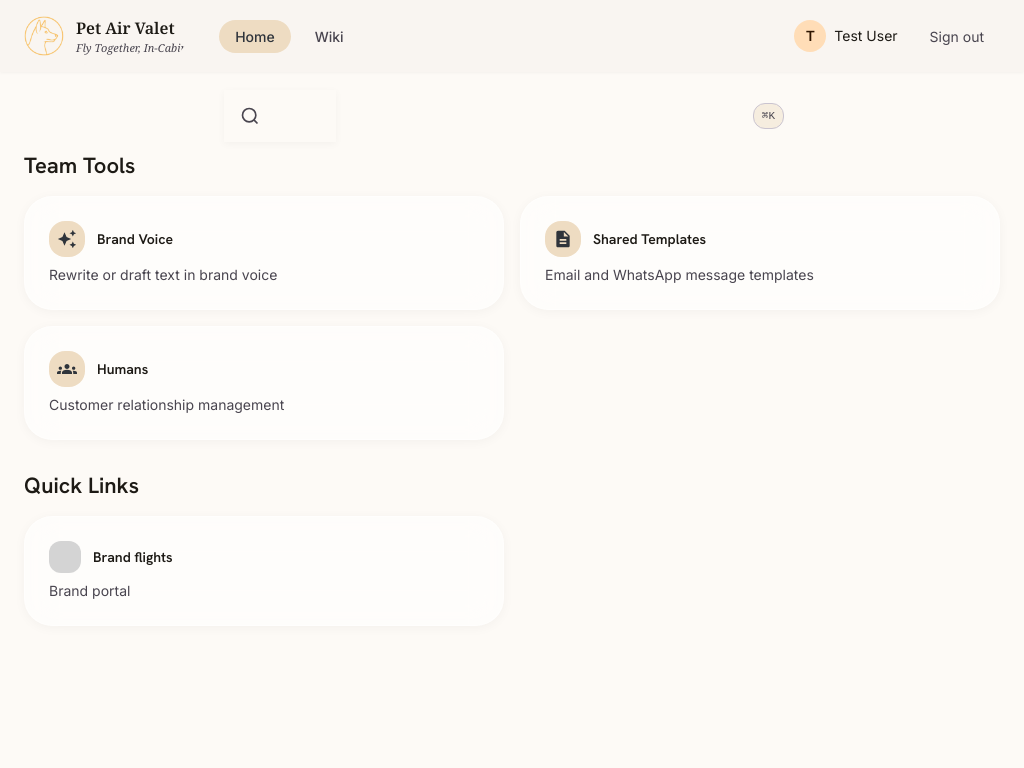
StartPage › uses quick-links heading when search matches both internal apps and links
Replace the text in the field labelled "⌘K" with "brand" at (768, 116), box [224,104,800,128]
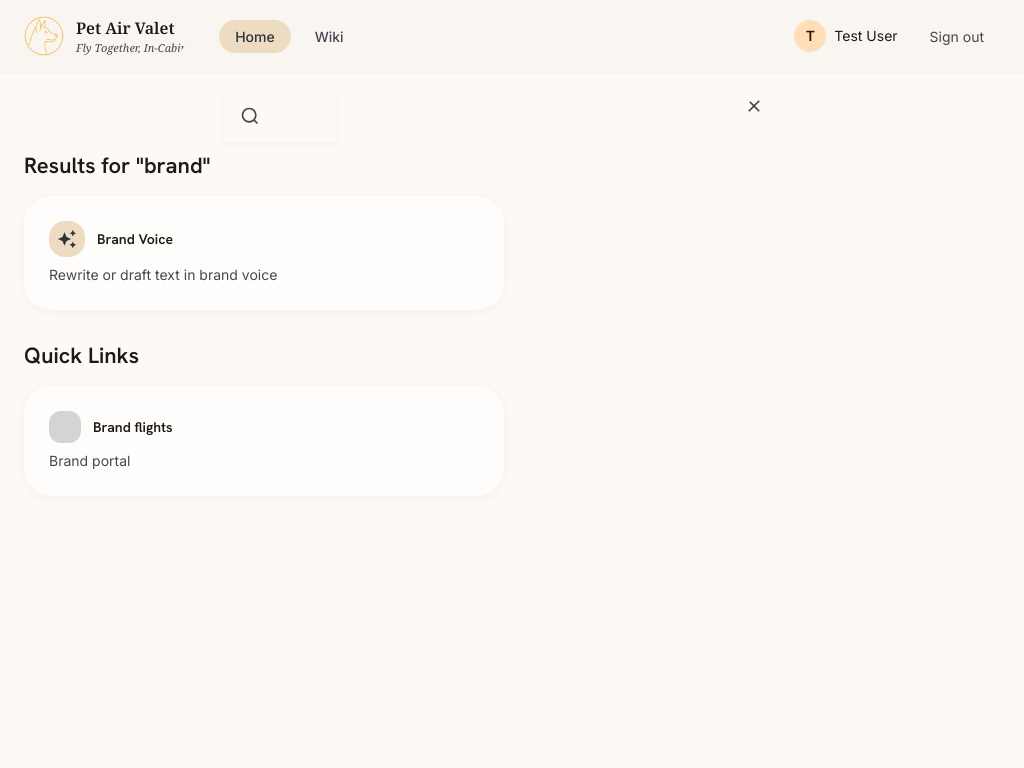
Expected: the heading "Quick Links" is shown, [24,341,139,370]
Expected: the heading "Results for \"brand\"" is shown, [24,151,210,180]
